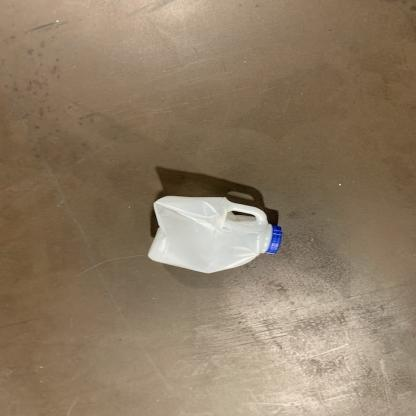trash: (146, 193, 288, 276)
